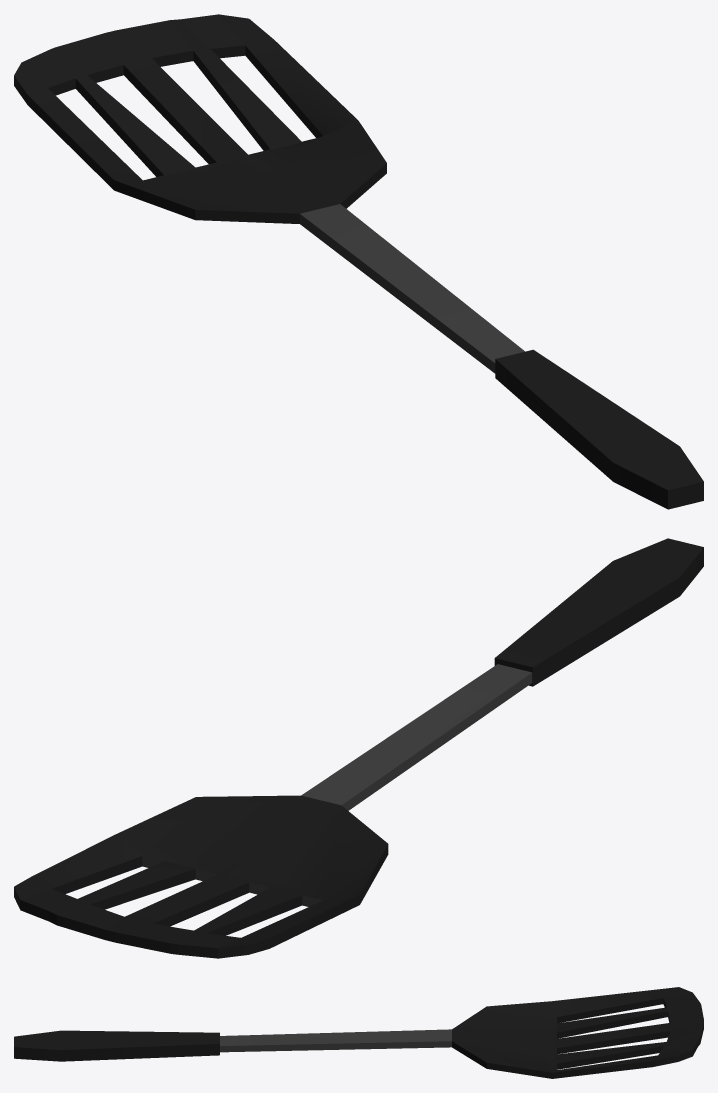
File: Spatula.FBX
3 renders of one model, top to bottom at view 1: azimuth 30°, elevation 25°; view 2: azimuth 150°, elevation 25°; view 3: azimuth 270°, elevation 25°, orthographic. The views are drawn at different scales.
Visible parts, largest first — view 1: Spatula; view 2: Spatula; view 3: Spatula.
Part boxes in pixels (<box>): Spatula: <box>14,14,703,509</box>; Spatula: <box>14,538,703,958</box>; Spatula: <box>14,987,703,1078</box>.
Bounding box in the file's own units: 24.64 × 5.11 × 100.
